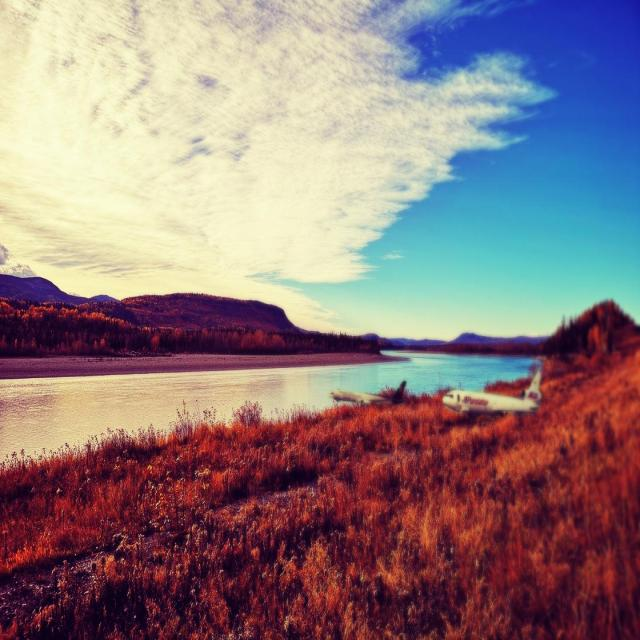airplane: (441, 362, 543, 417), (329, 379, 407, 406)
